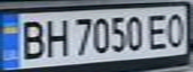0: (124, 12, 148, 52), (90, 13, 112, 55)
5: (109, 14, 130, 53)
7: (69, 15, 93, 57)
B: (15, 17, 48, 61)
E: (145, 10, 172, 51)
H: (39, 16, 72, 60)
O: (163, 10, 190, 48)
